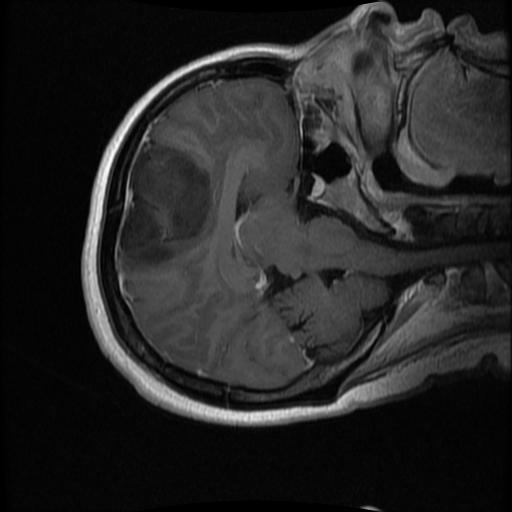glioma: (116, 140, 212, 269)
